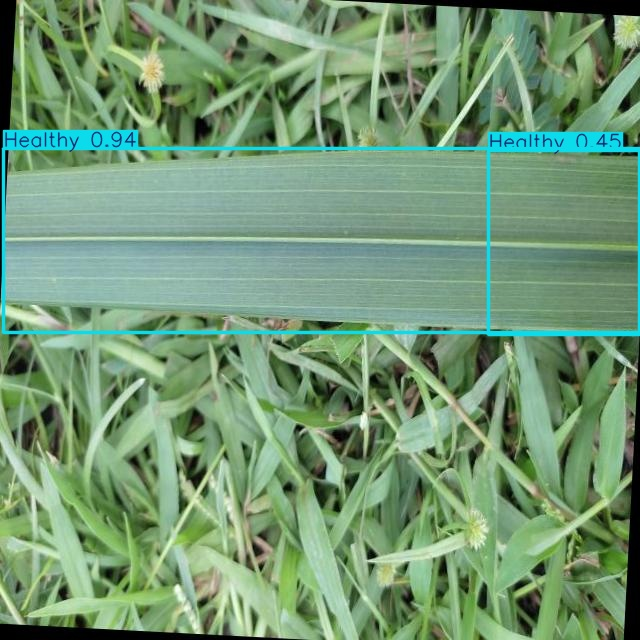Healthy: (3, 148, 640, 332), (488, 150, 640, 335)
